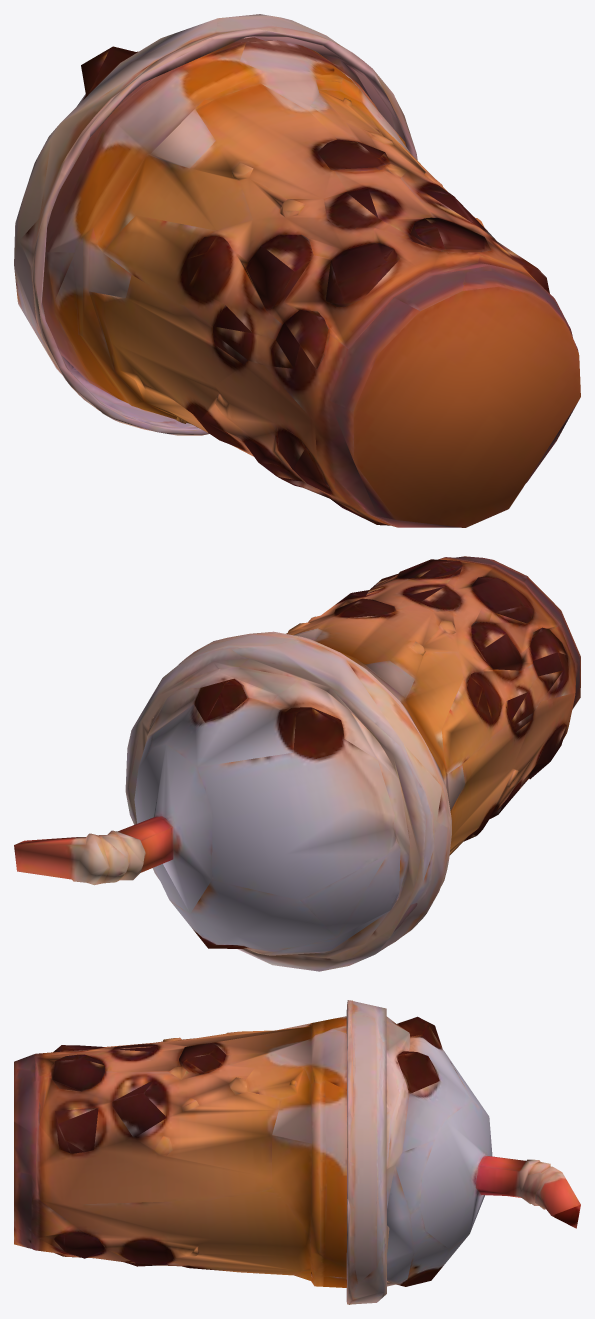
The picture shows the model from 3 angles, top to bottom: view 1: azimuth 30°, elevation 25°; view 2: azimuth 150°, elevation 25°; view 3: azimuth 270°, elevation 25°; orthographic projection. The views are drawn at different scales.
Parts seen in each view (by area): view 1: material; view 2: material; view 3: material.
Boxes of the visible parts, x1,y1,x2,y2 form: material: (14, 14, 580, 527); material: (14, 556, 580, 971); material: (14, 1000, 580, 1304).
Size of the model in its own units: 0.5472 by 0.5376 by 1.
1 material, 1 textured.
